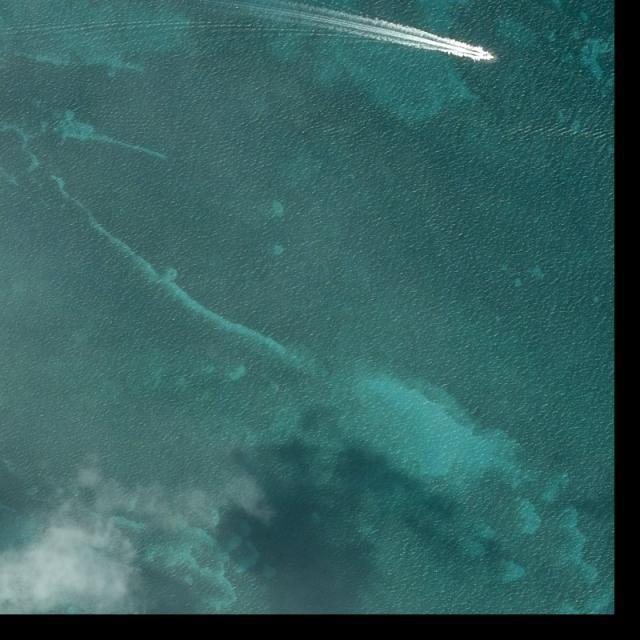ship: (483, 54, 495, 60)
